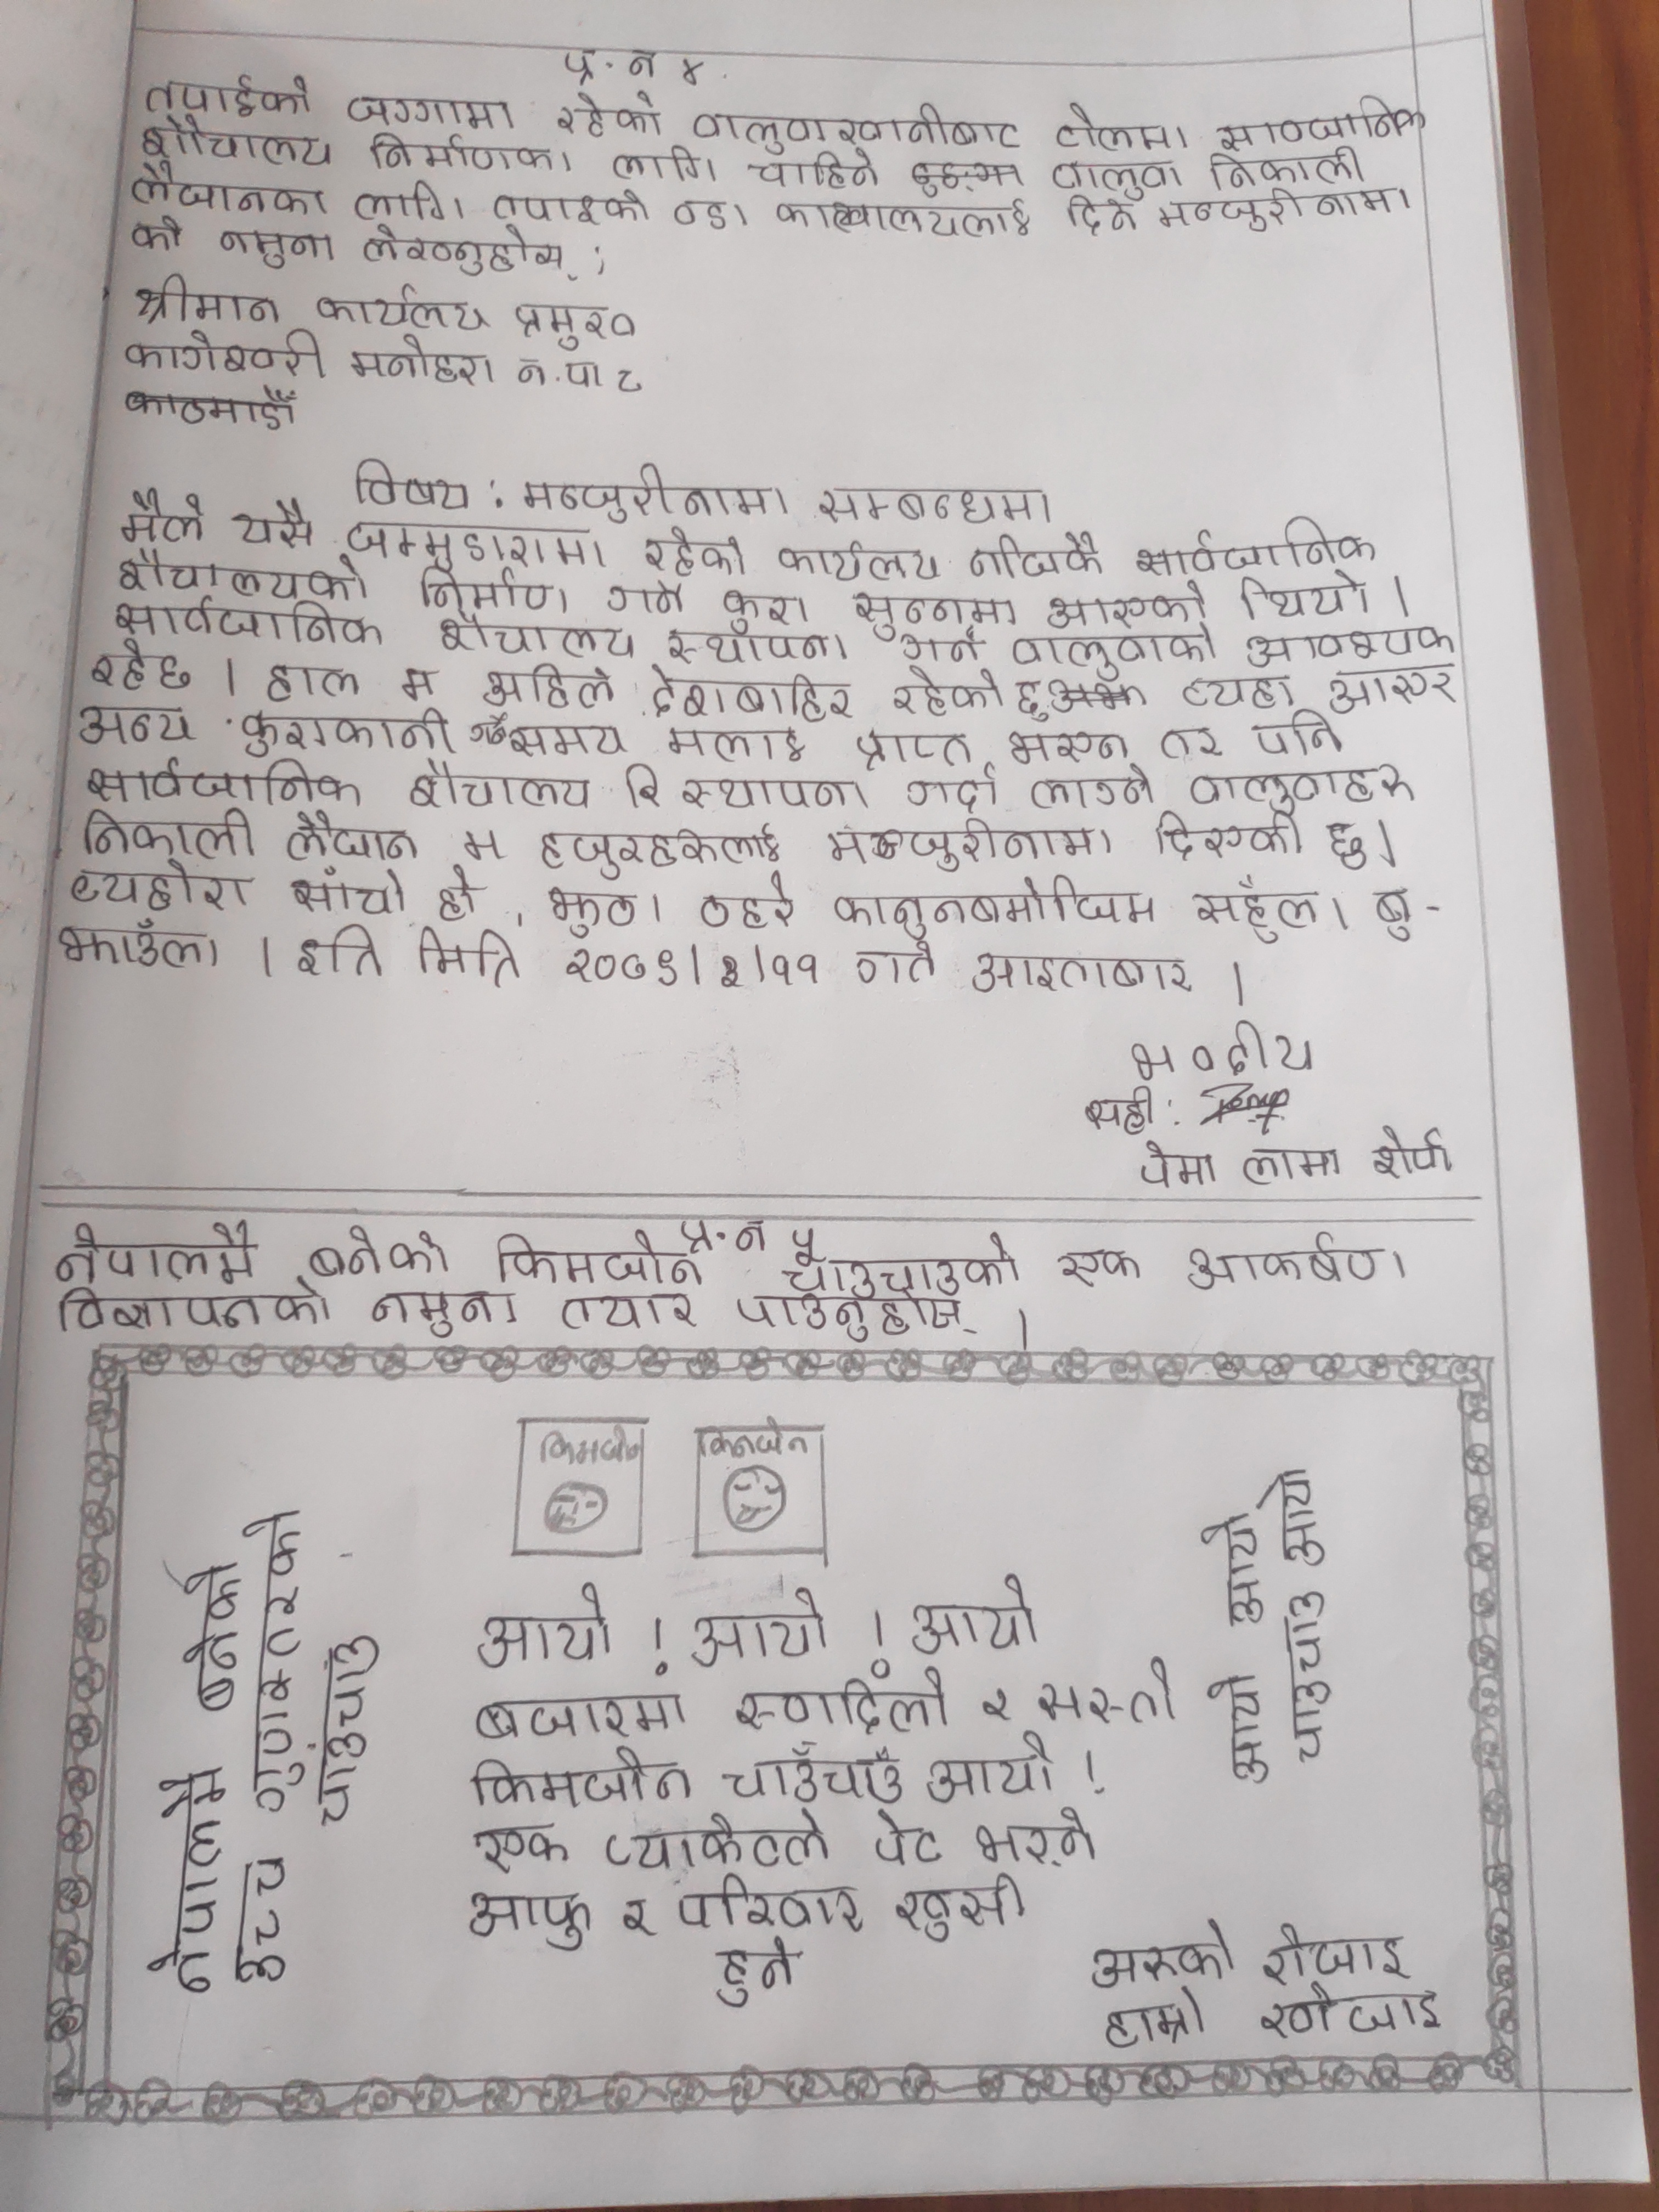text: (831, 876, 1162, 942), (246, 1512, 310, 1820), (150, 1764, 230, 1996), (523, 460, 795, 524), (687, 101, 1026, 152), (563, 941, 824, 1000), (606, 1813, 833, 1878), (1134, 519, 1377, 578), (535, 820, 784, 878), (824, 820, 1117, 869), (734, 1670, 955, 1735), (115, 547, 371, 601), (343, 521, 615, 571), (469, 1749, 694, 1810), (58, 1219, 261, 1285), (1187, 1233, 1408, 1294), (647, 662, 859, 725), (361, 223, 579, 284), (52, 1285, 333, 1332), (493, 1228, 697, 1292), (112, 601, 390, 648), (716, 1740, 904, 1810), (819, 475, 1053, 531), (87, 759, 362, 806), (967, 946, 1204, 1000), (673, 1878, 868, 1942), (683, 1585, 833, 1669), (732, 1287, 979, 1338), (1131, 1017, 1323, 1082), (317, 1637, 380, 1832), (125, 164, 338, 221), (622, 761, 871, 810), (774, 193, 1032, 240), (1215, 92, 1429, 148), (476, 1585, 617, 1669), (237, 704, 455, 758), (1006, 629, 1220, 681), (1190, 765, 1425, 812), (1263, 1916, 1422, 1986), (122, 329, 331, 381), (913, 1575, 1044, 1658), (1194, 874, 1354, 942), (1084, 1921, 1248, 1987), (361, 129, 579, 176), (469, 1689, 687, 1737), (138, 117, 333, 169), (887, 664, 1054, 725), (410, 758, 592, 813), (1262, 1987, 1445, 2043), (1035, 1658, 1180, 1728), (439, 617, 638, 667), (64, 860, 253, 913), (51, 918, 221, 975), (890, 1878, 1032, 1946), (847, 587, 1023, 641), (1283, 1590, 1337, 1766), (789, 1254, 1025, 1294), (181, 1564, 242, 1716), (78, 810, 260, 860), (1237, 622, 1464, 662), (134, 71, 317, 120), (312, 282, 493, 331), (924, 1733, 1060, 1797), (969, 1806, 1103, 1869), (1206, 1667, 1274, 1791), (305, 1224, 450, 1282), (467, 1890, 598, 1952), (132, 272, 284, 326), (127, 383, 300, 430), (232, 1860, 295, 1987), (1152, 813, 1304, 866), (361, 1291, 523, 1339), (775, 540, 948, 585), (284, 810, 420, 867), (350, 455, 476, 516), (1199, 1510, 1263, 1629), (660, 620, 835, 664), (1047, 582, 1215, 627), (340, 89, 519, 131), (415, 568, 573, 615), (349, 336, 493, 387), (415, 923, 525, 989), (491, 185, 650, 230), (1051, 105, 1192, 155), (1237, 571, 1371, 622), (509, 300, 638, 352), (969, 533, 1107, 582), (483, 660, 615, 711), (1263, 1465, 1328, 1568), (558, 1285, 702, 1331), (288, 867, 411, 920), (1100, 1991, 1211, 2048), (1155, 190, 1307, 232), (640, 528, 756, 582), (1204, 152, 1368, 190), (77, 700, 195, 752), (1323, 667, 1459, 711), (667, 726, 802, 770), (1046, 158, 1183, 200), (84, 639, 193, 691), (298, 920, 387, 984), (716, 1937, 798, 2006), (545, 881, 641, 941), (694, 880, 795, 935), (214, 225, 338, 270), (849, 726, 976, 770), (469, 1822, 573, 1874), (554, 92, 666, 141), (1371, 1120, 1457, 1183), (870, 1806, 946, 1876), (119, 484, 206, 545), (748, 152, 880, 192), (512, 719, 633, 763), (1004, 725, 1134, 765), (1032, 770, 1161, 810), (1180, 674, 1297, 716), (1241, 1141, 1344, 1188), (559, 44, 666, 85), (232, 500, 319, 550), (1054, 1245, 1143, 1294), (1134, 1139, 1220, 1190), (350, 179, 453, 221), (725, 589, 816, 636), (261, 662, 362, 704), (906, 770, 999, 815), (1251, 711, 1345, 754), (1082, 1083, 1164, 1132), (603, 573, 692, 617), (852, 944, 945, 986), (606, 150, 716, 183), (514, 352, 603, 390), (1312, 185, 1413, 218), (897, 625, 985, 664), (1065, 195, 1140, 239), (1324, 812, 1377, 873), (676, 1223, 770, 1256), (1157, 719, 1225, 759), (1373, 885, 1417, 946), (669, 197, 749, 228), (439, 869, 479, 925), (666, 45, 713, 91), (615, 1897, 657, 1946), (129, 218, 183, 254), (784, 1226, 824, 1270), (399, 665, 439, 700), (979, 1688, 1014, 1726), (462, 829, 502, 862), (608, 364, 647, 395)
